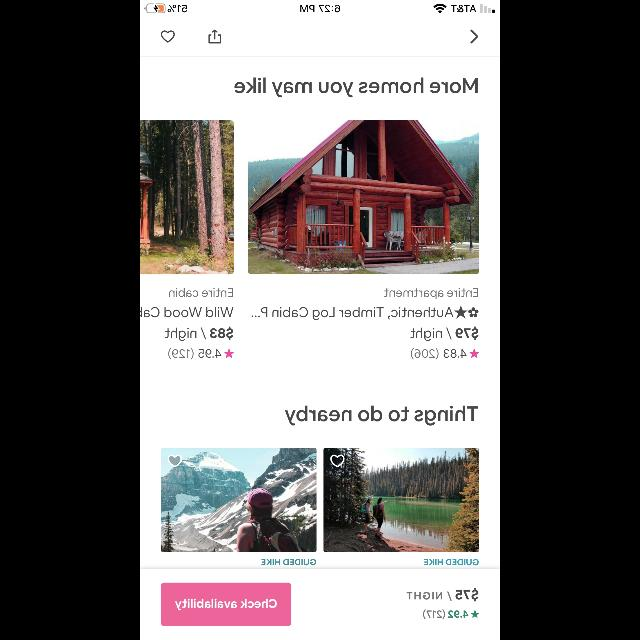icon: (208, 30, 222, 44), (330, 455, 344, 467), (168, 455, 182, 467), (454, 306, 468, 318), (162, 31, 174, 43), (470, 30, 478, 44), (224, 349, 233, 357), (469, 349, 478, 357), (472, 610, 478, 618)
image: (247, 120, 478, 274), (162, 448, 316, 552), (324, 448, 478, 552), (140, 120, 234, 274), (468, 307, 478, 317)
text: (235, 78, 478, 98), (284, 406, 478, 426), (252, 306, 452, 320), (384, 288, 478, 300), (407, 588, 478, 602), (165, 327, 233, 341), (410, 327, 478, 341), (140, 307, 234, 317), (169, 288, 233, 298), (262, 559, 316, 565), (424, 559, 478, 565), (410, 348, 438, 359), (168, 348, 194, 359), (198, 350, 222, 358), (423, 610, 445, 618), (444, 349, 466, 357), (448, 610, 468, 618)
textbutton: (161, 582, 291, 626)
uppertaskbar: (140, 0, 500, 14)
